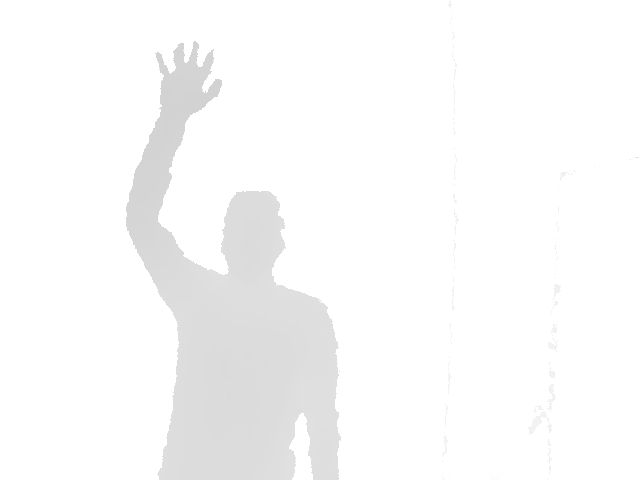hand: (154, 40, 224, 119)
head: (220, 190, 286, 286)
person: (124, 40, 343, 480)
